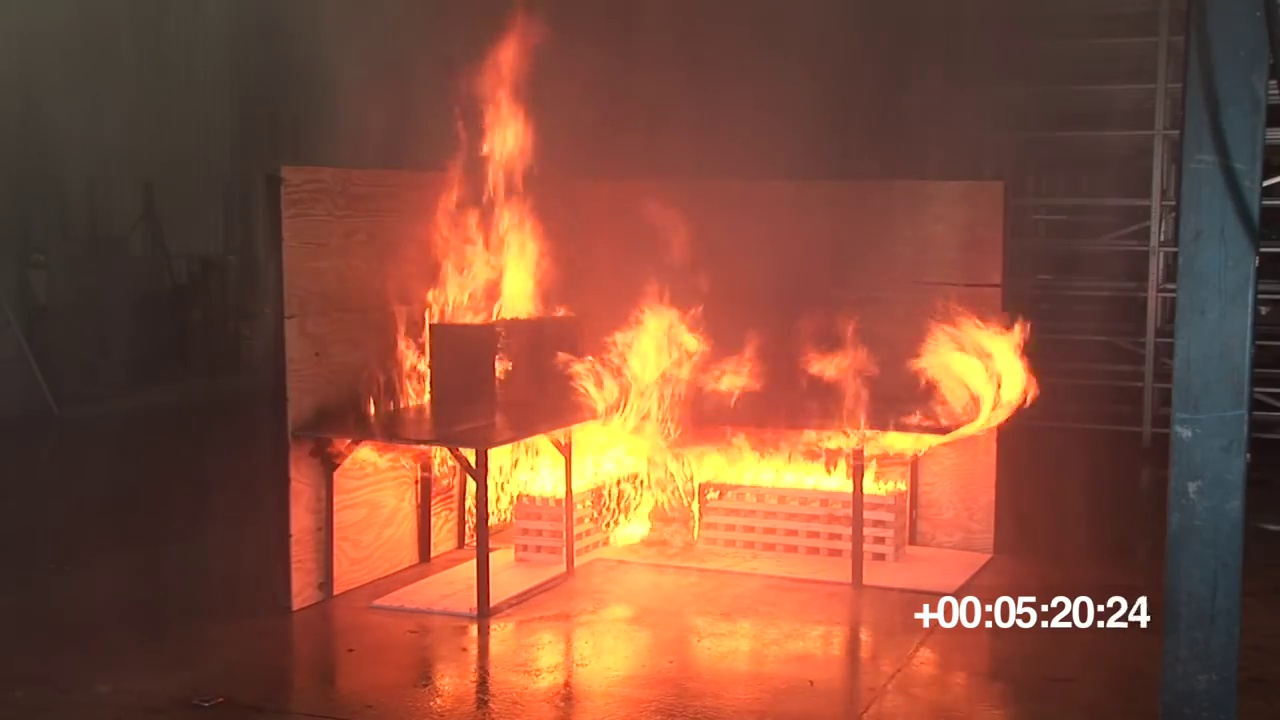fire: (398, 40, 541, 415), (564, 295, 699, 546), (912, 315, 1035, 431), (714, 450, 900, 494), (824, 330, 880, 429), (719, 334, 770, 400)
